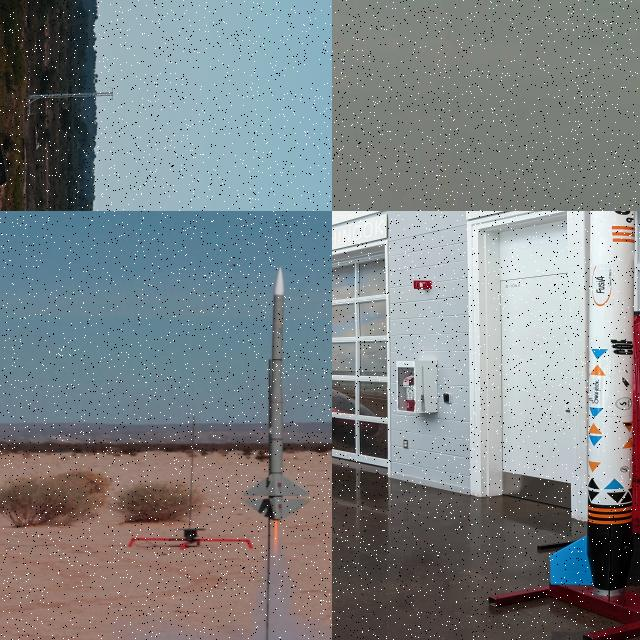Rocket: (550, 211, 640, 602), (242, 266, 312, 522)
